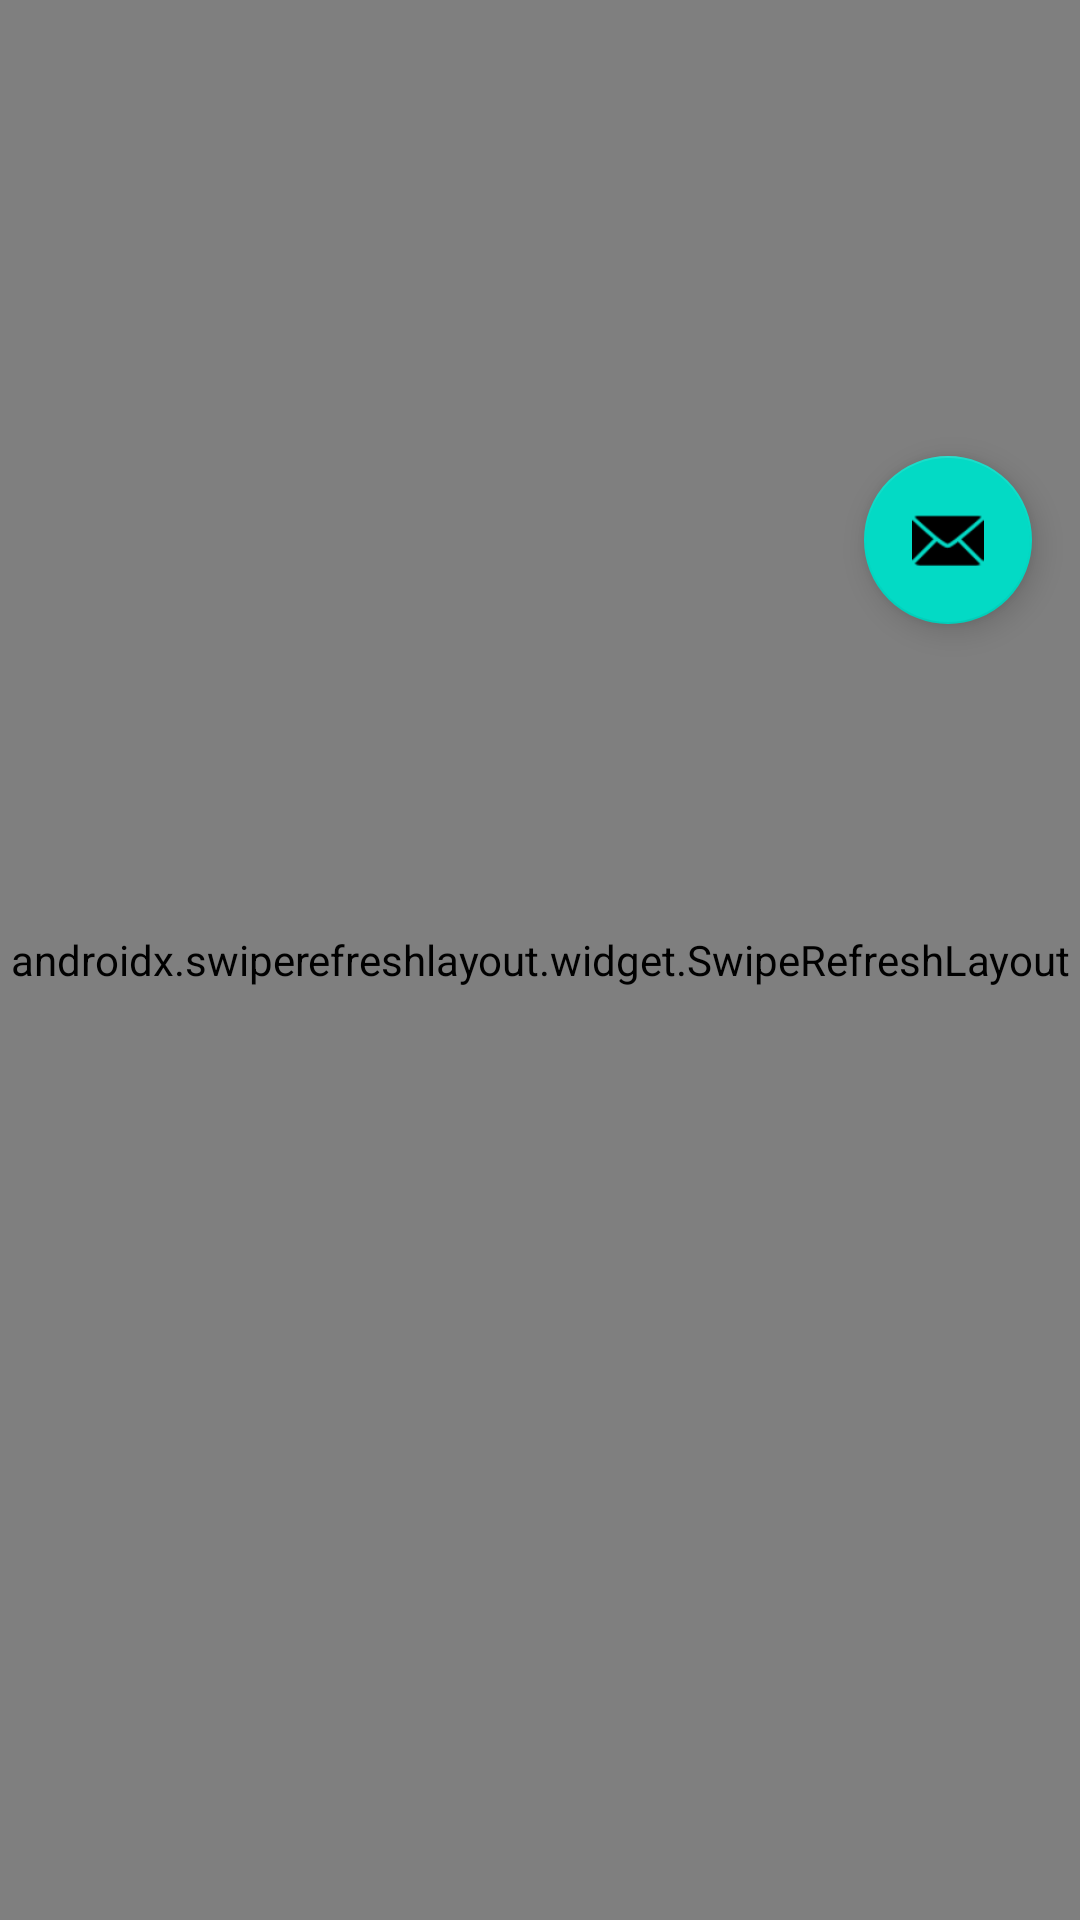

Icon bounding boxes for this 1080px×1920px phone screenshot, format bbox=(x1, y1, x2, y2):
email: bbox=(864, 456, 1032, 624)
